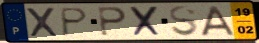A: (200, 5, 237, 37)
P: (97, 6, 129, 38), (61, 7, 90, 38)
S: (168, 5, 201, 38)
X: (128, 5, 164, 38), (24, 6, 61, 38)
